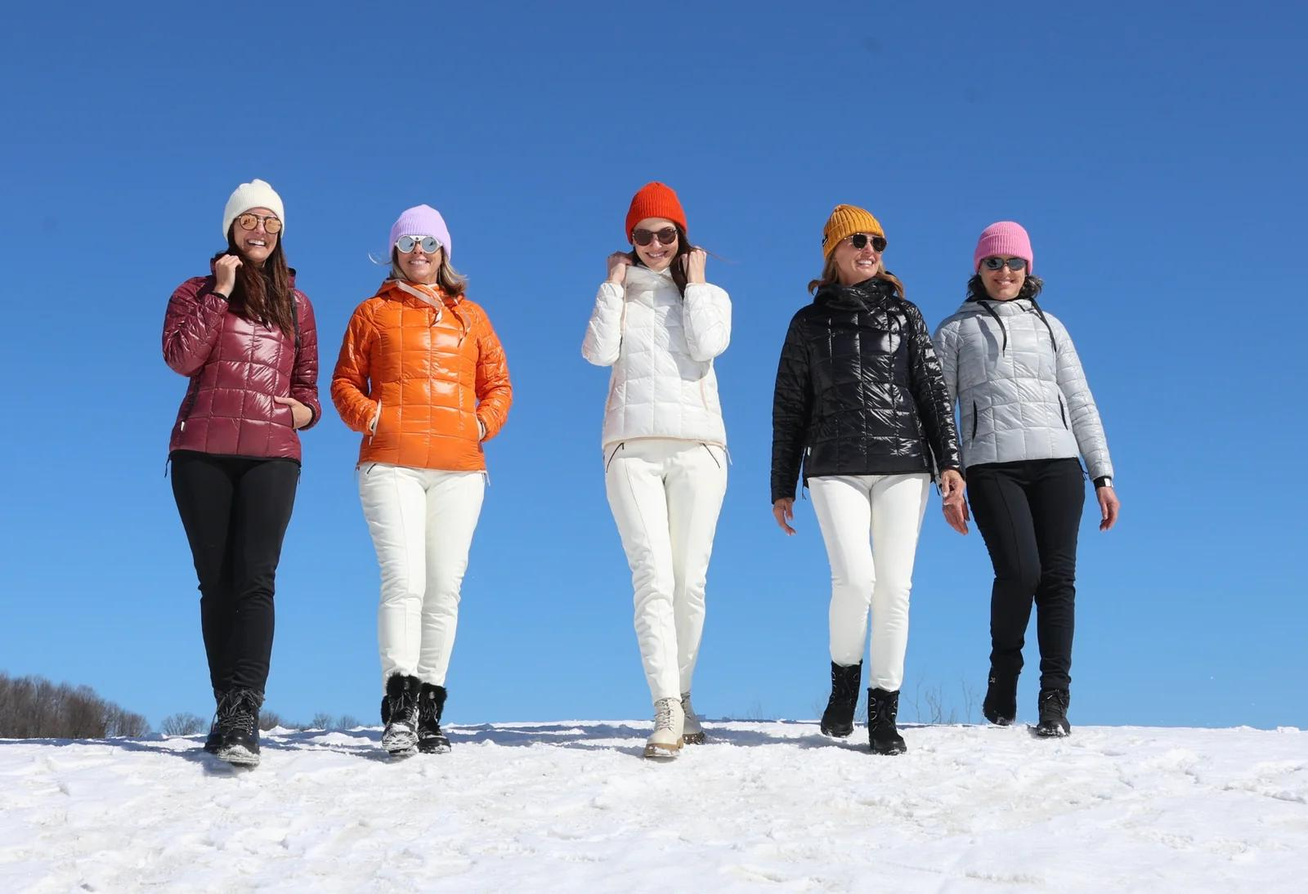coat: (770, 278, 962, 512), (330, 276, 515, 476), (156, 252, 322, 468), (937, 300, 1118, 482), (577, 258, 736, 448)
trousers: (163, 447, 302, 705), (599, 437, 730, 705), (956, 458, 1088, 695), (358, 454, 486, 685), (799, 468, 928, 696)
